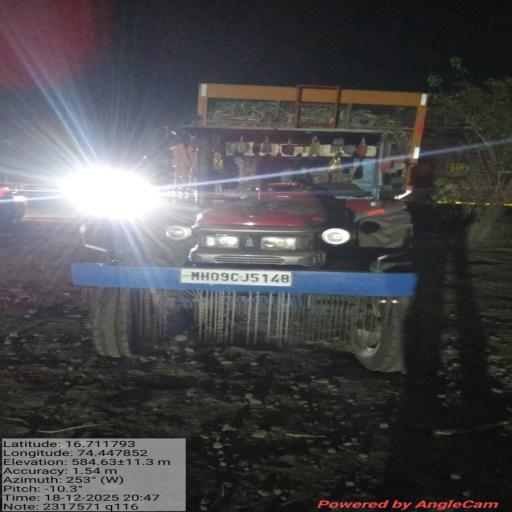number_plate: (186, 260, 320, 298)
